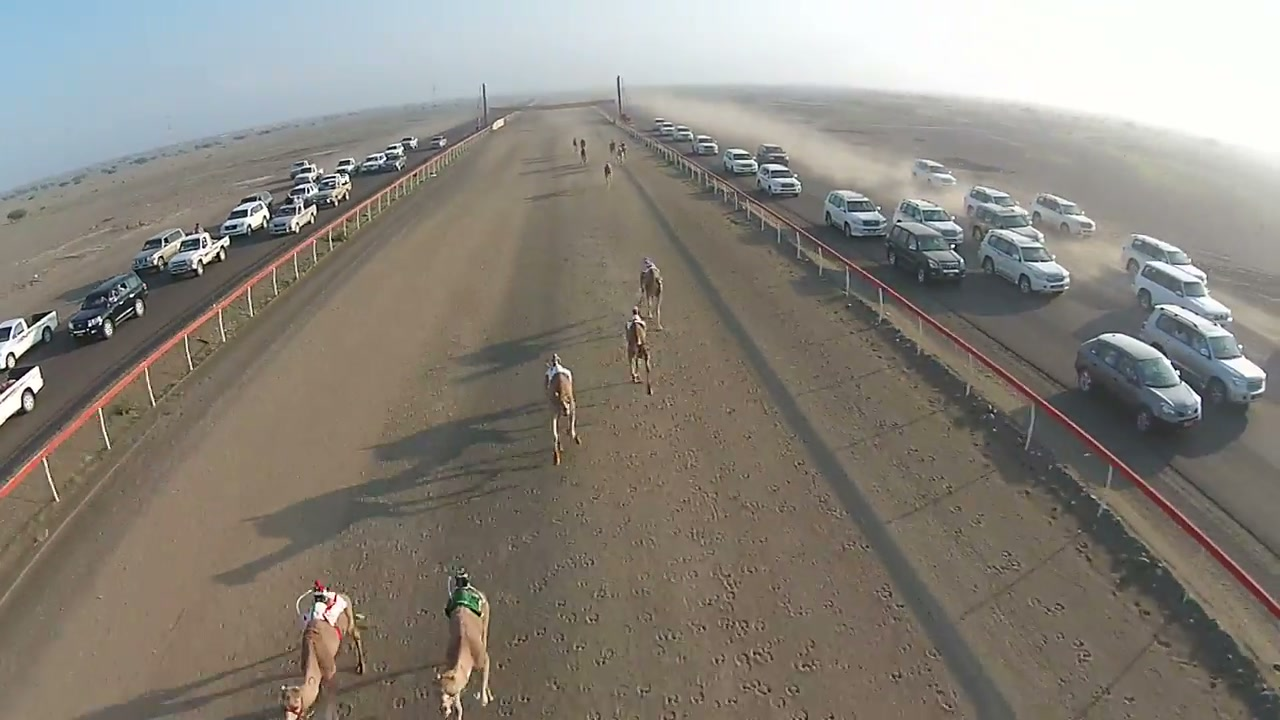animal_foot_print: (814, 364, 1119, 695), (726, 355, 968, 708), (506, 495, 817, 715), (628, 380, 764, 635)
